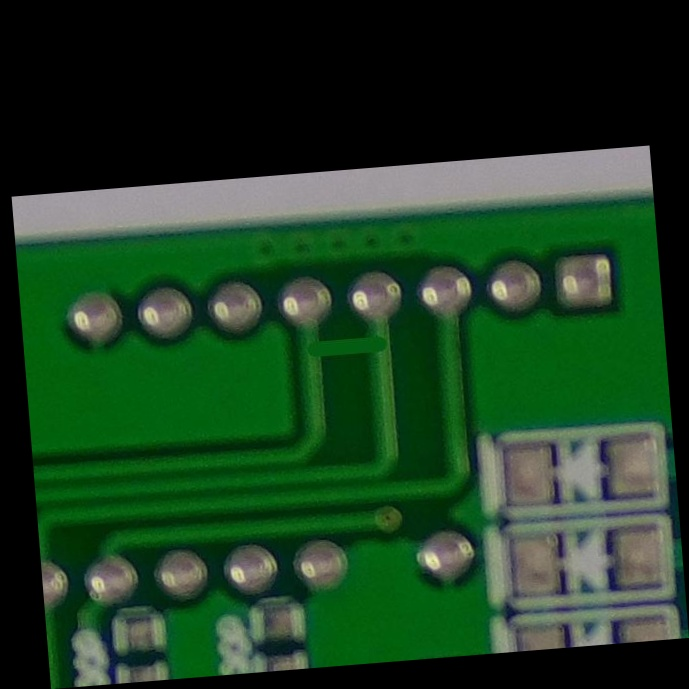short: (287, 309, 402, 380)
